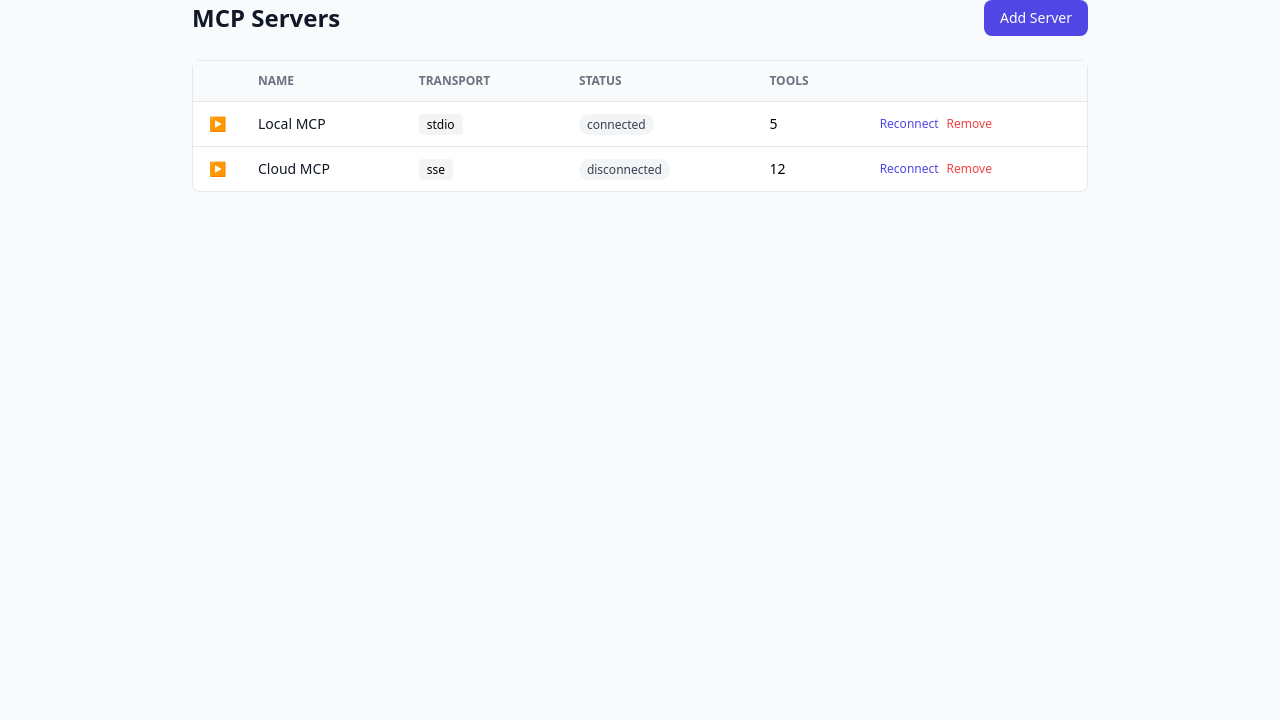
Test case: MCP2: Add stdio server › opens add server modal
The width and height of the screenshot is (1280, 720).
Click the button "Add Server". click: [1036, 18]
box: [984,0,1088,36]
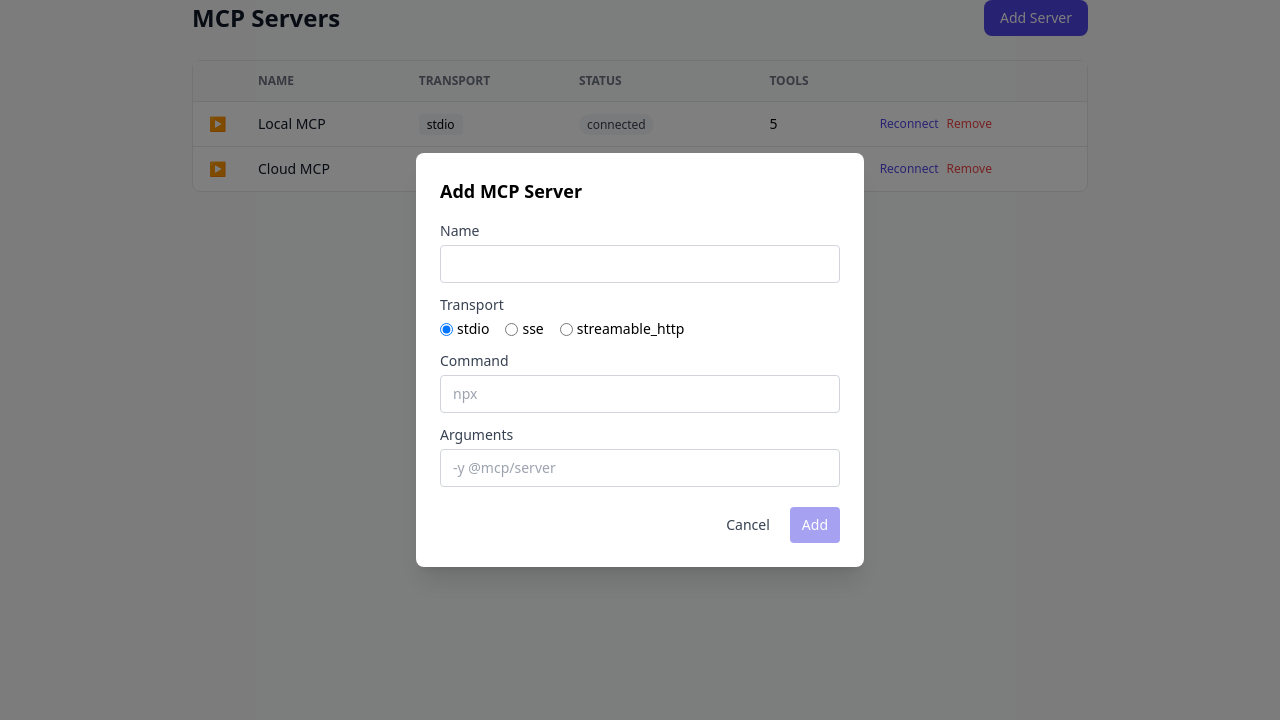
expect the heading "Add MCP Server" is shown: met, box [440,179,582,203]
